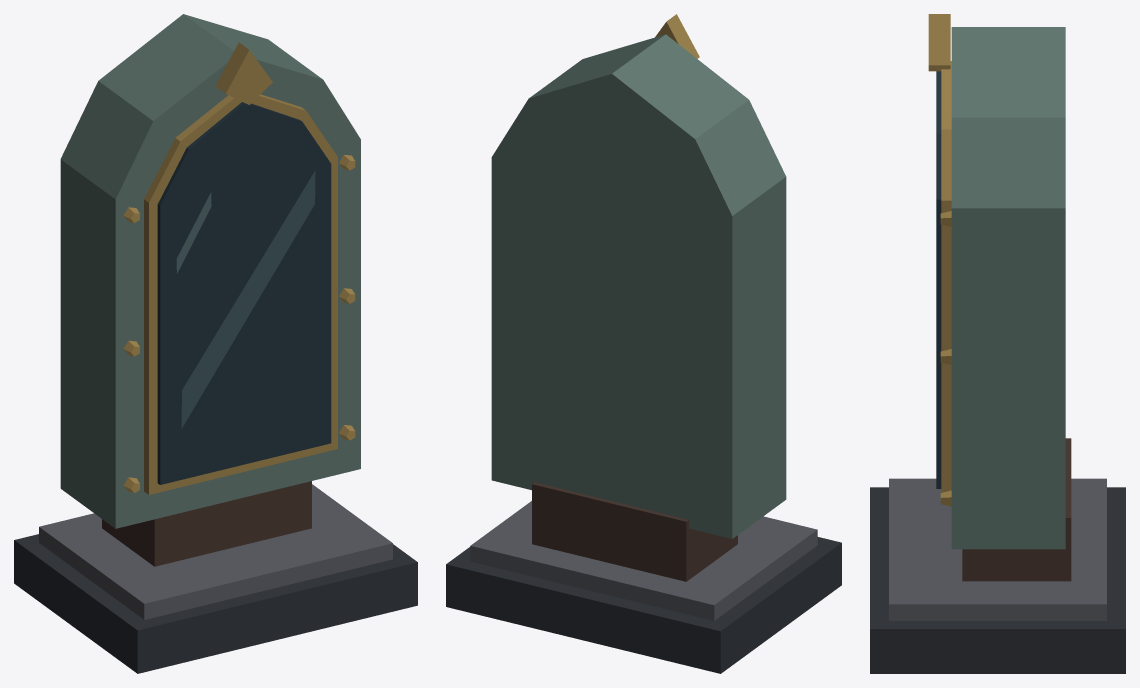
Rendered from mirror-still.glb.
3 views of the same model, side by side, from view 1: azimuth 30°, elevation 25°; view 2: azimuth 150°, elevation 25°; view 3: azimuth 270°, elevation 25° (orthographic). The views are drawn at different scales.
Parts seen in each view (by area): view 1: The other side · still; view 2: The other side · still; view 3: The other side · still.
Part boxes in pixels (bbox=[...]): The other side · still: bbox=[14, 14, 417, 673]; The other side · still: bbox=[446, 14, 841, 673]; The other side · still: bbox=[870, 14, 1125, 673].
Size of the model in its own units: 0.89 by 1.73 by 0.68.
